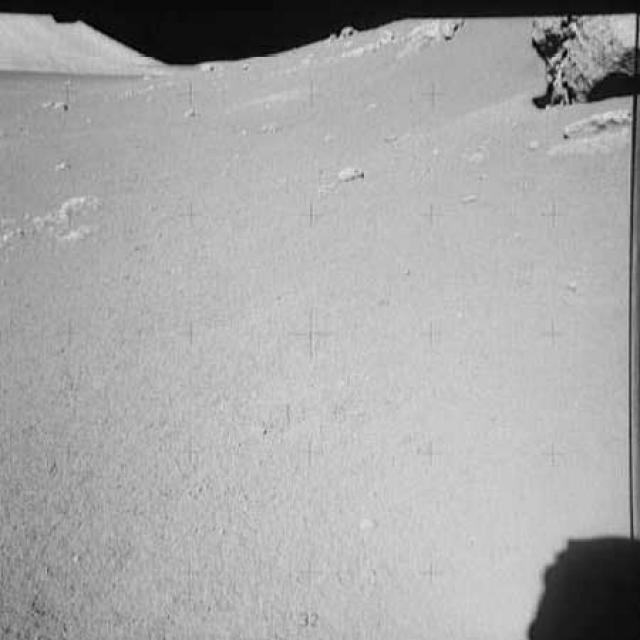rock: (524, 13, 638, 114), (534, 109, 630, 155), (400, 18, 463, 59), (333, 164, 375, 190)
